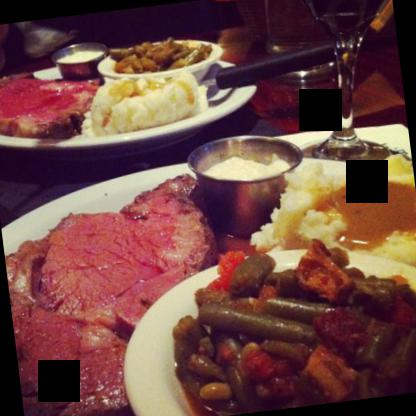beef: (0, 170, 243, 415), (0, 64, 100, 154)
